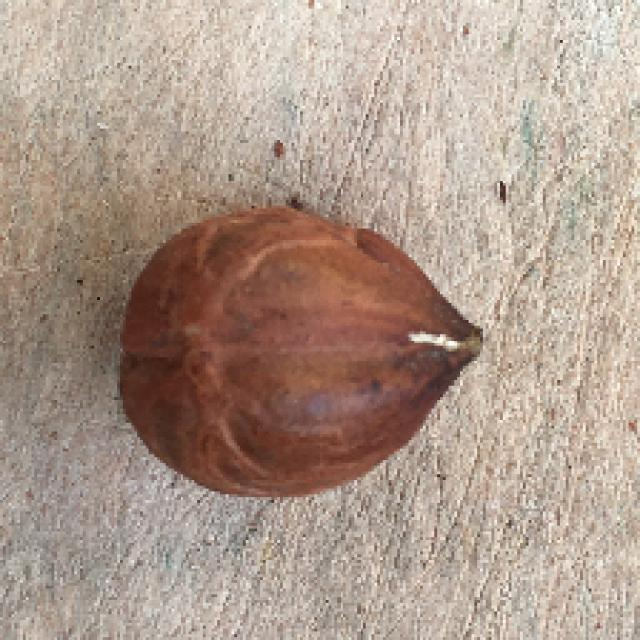hazelnut: (117, 193, 497, 506)
